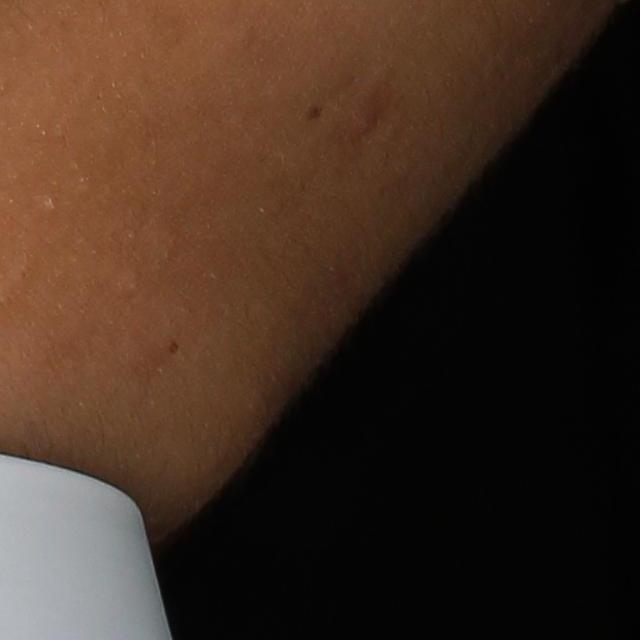comedo: (45, 199, 58, 212)
nevus: (301, 100, 326, 120)
papule: (341, 89, 382, 138)
